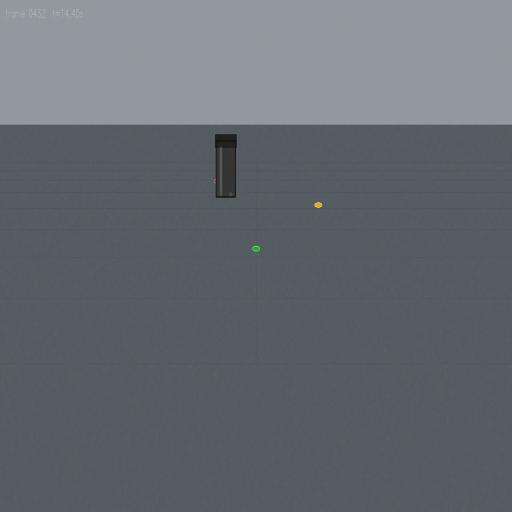bin: (215, 134, 237, 198)
